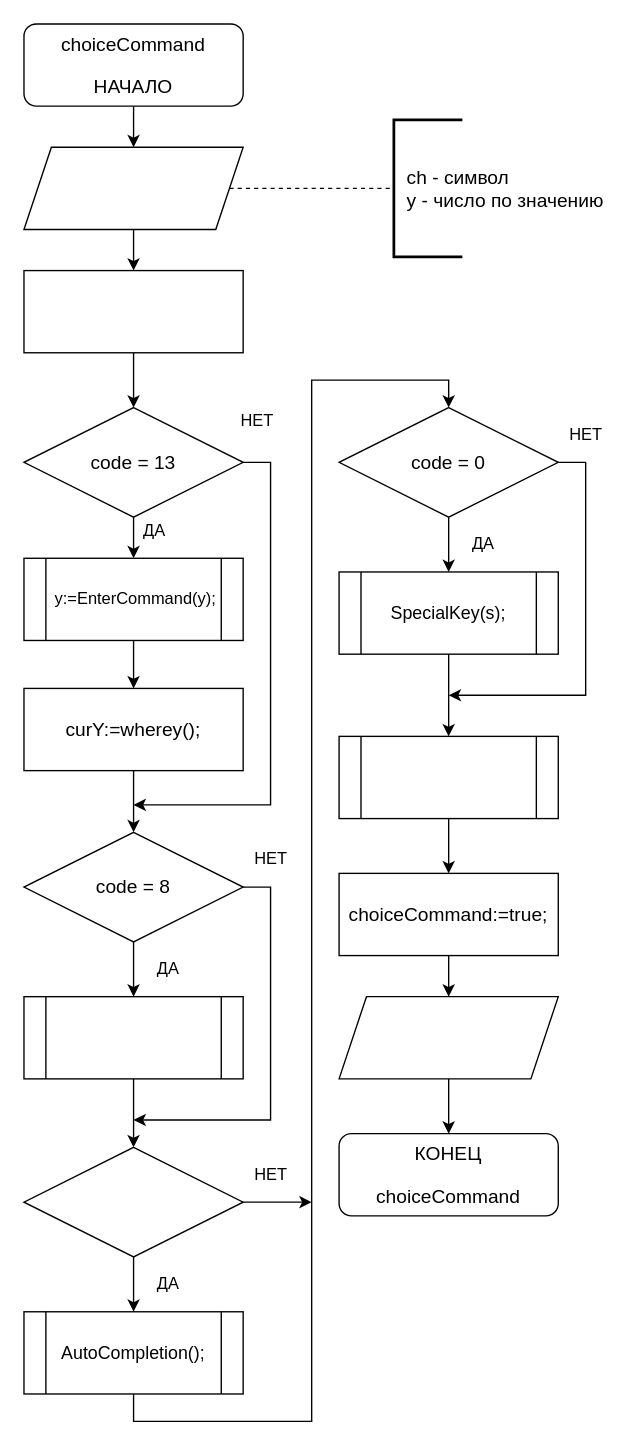
Image size: 637x1456. Some labels were removed from this diagram. Here are the shapes that lost their labels. From the top down, the centre of each, then its label:
the point at 133,187: ch, y
the point at 133,311: code:=ord(ch);
the point at 448,777: AddChar(s,ch);
the point at 133,1037: DeleteChar(s);
the point at 448,1037: ВЕРНУТЬ choiceCommand
the point at 133,1201: code = 9
